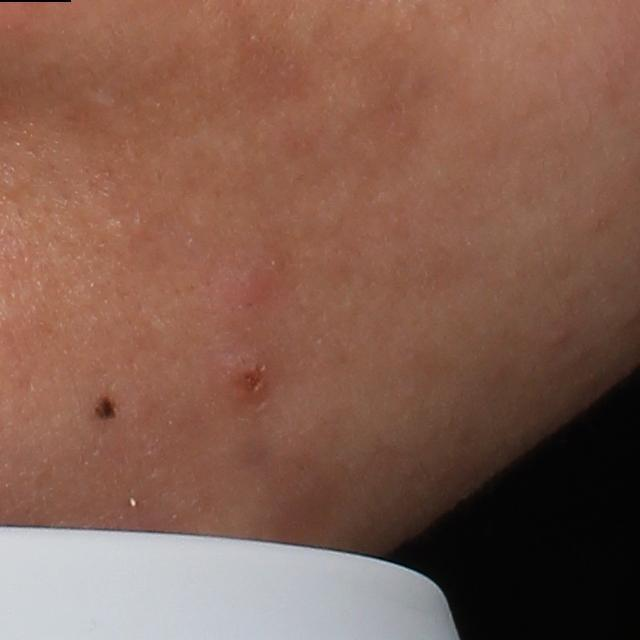papule: (225, 258, 273, 312)
